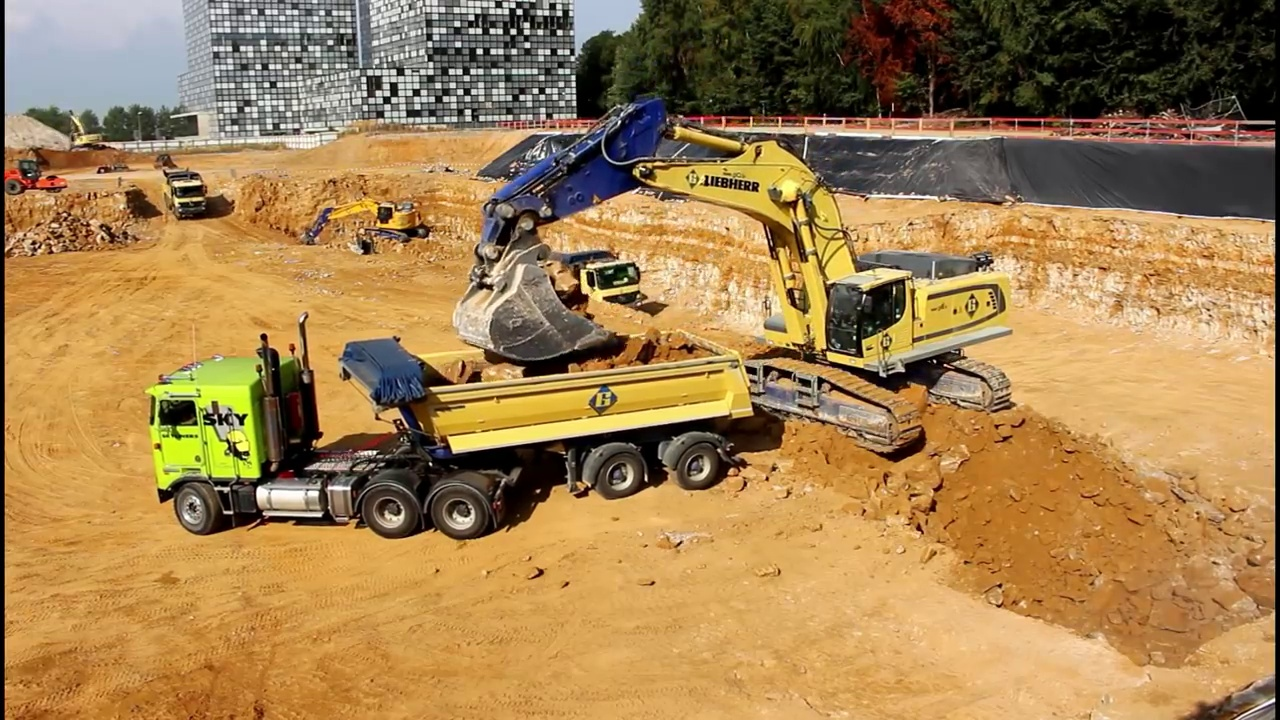compactor: (5, 154, 73, 199)
excavator: (446, 92, 1018, 461), (297, 193, 435, 264), (59, 103, 109, 157)
truck: (139, 310, 761, 540), (508, 237, 650, 328), (153, 154, 215, 226)
